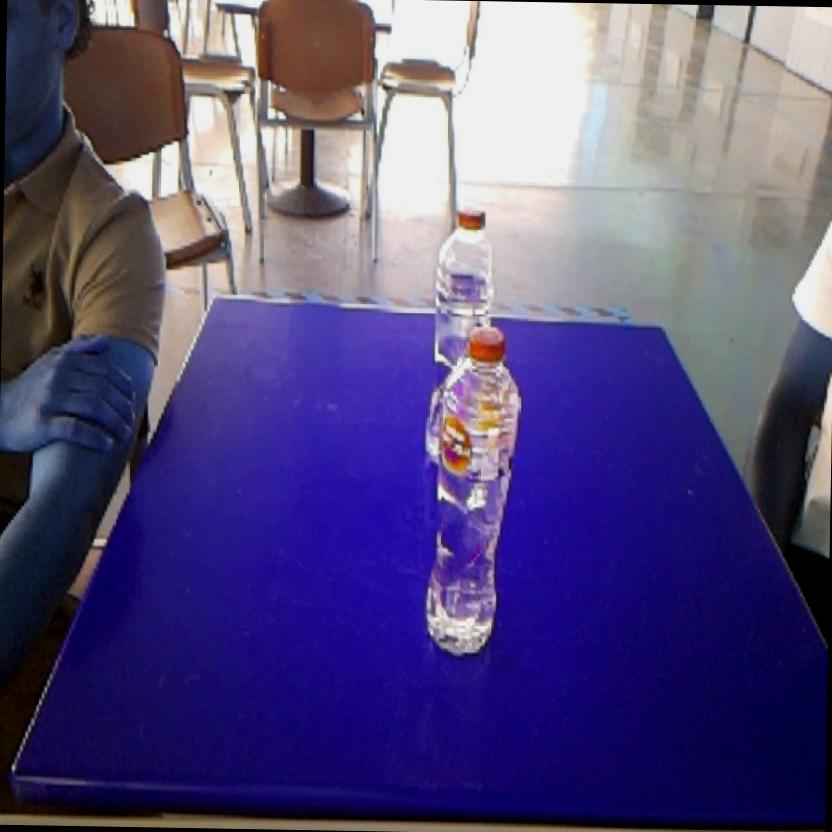good: (415, 320, 531, 670)
no_label: (429, 187, 511, 327)
